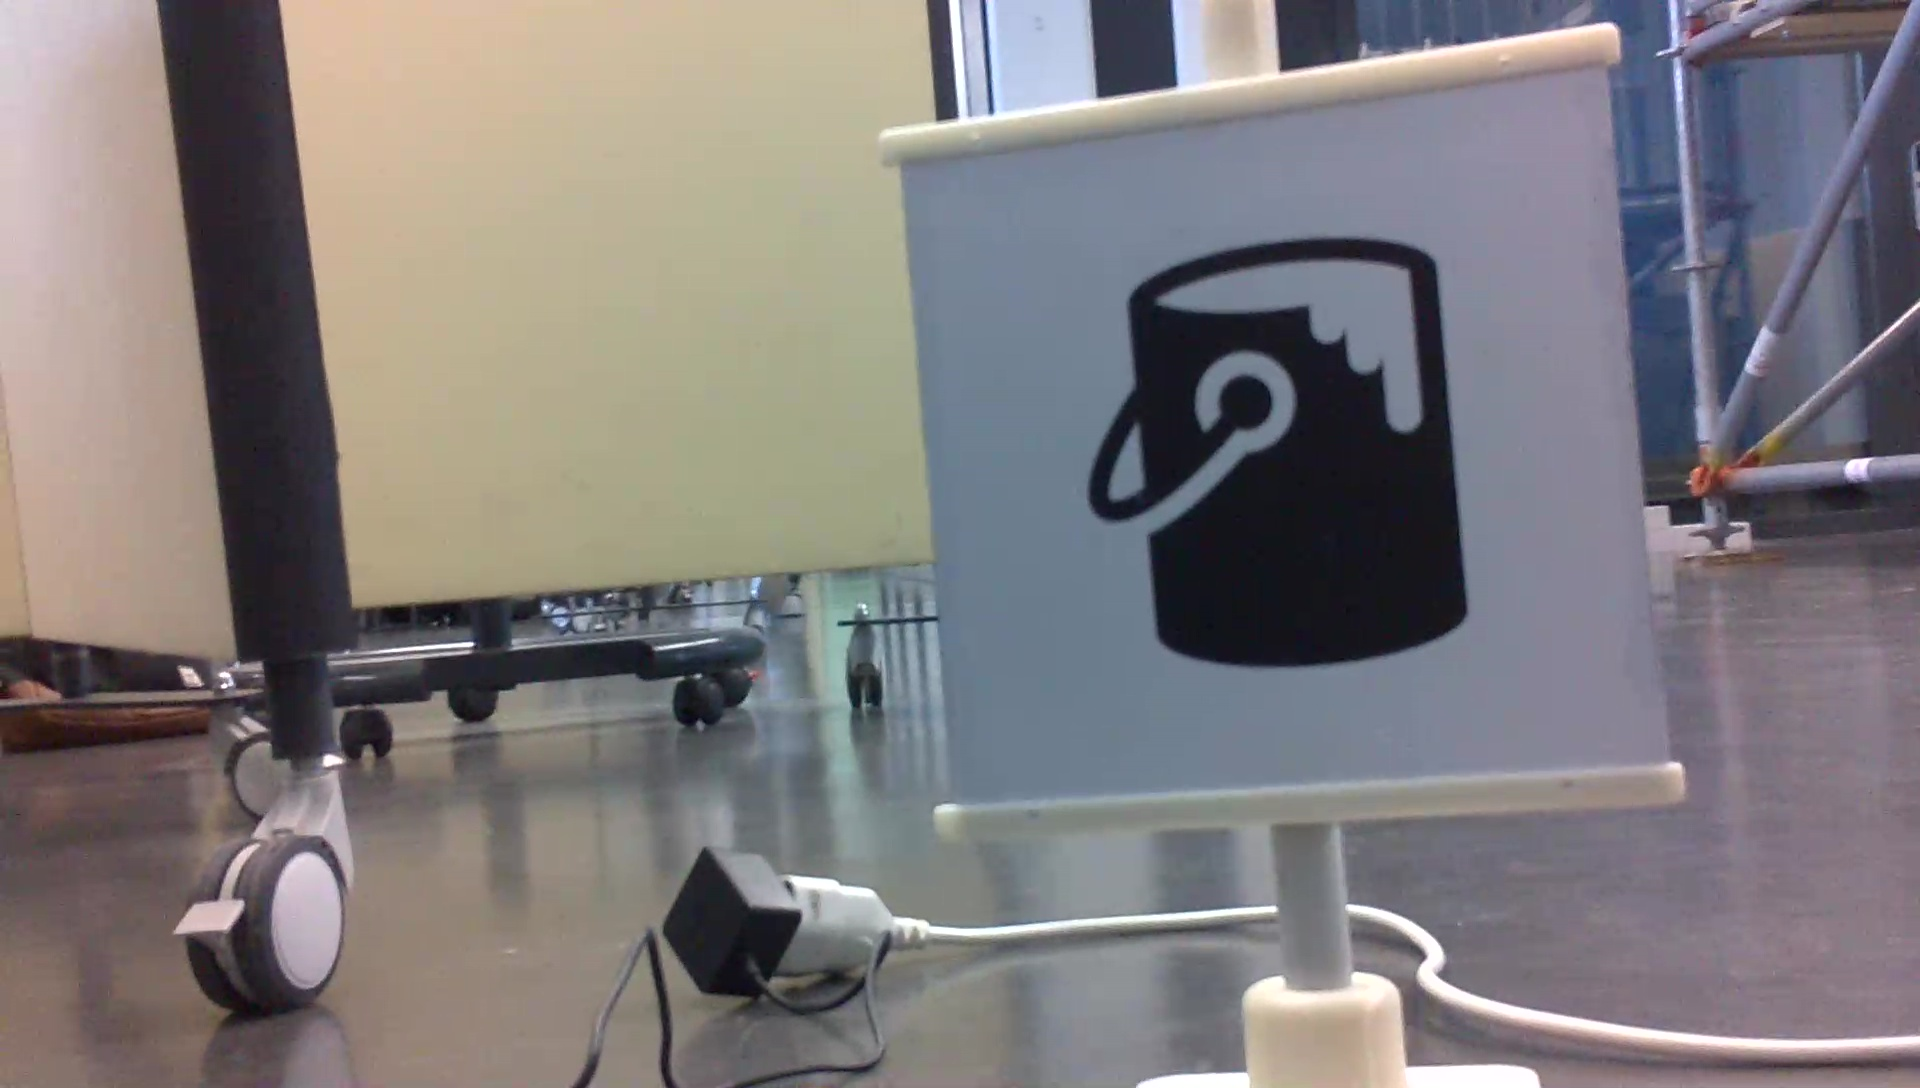bucket: (1077, 229, 1477, 684)
